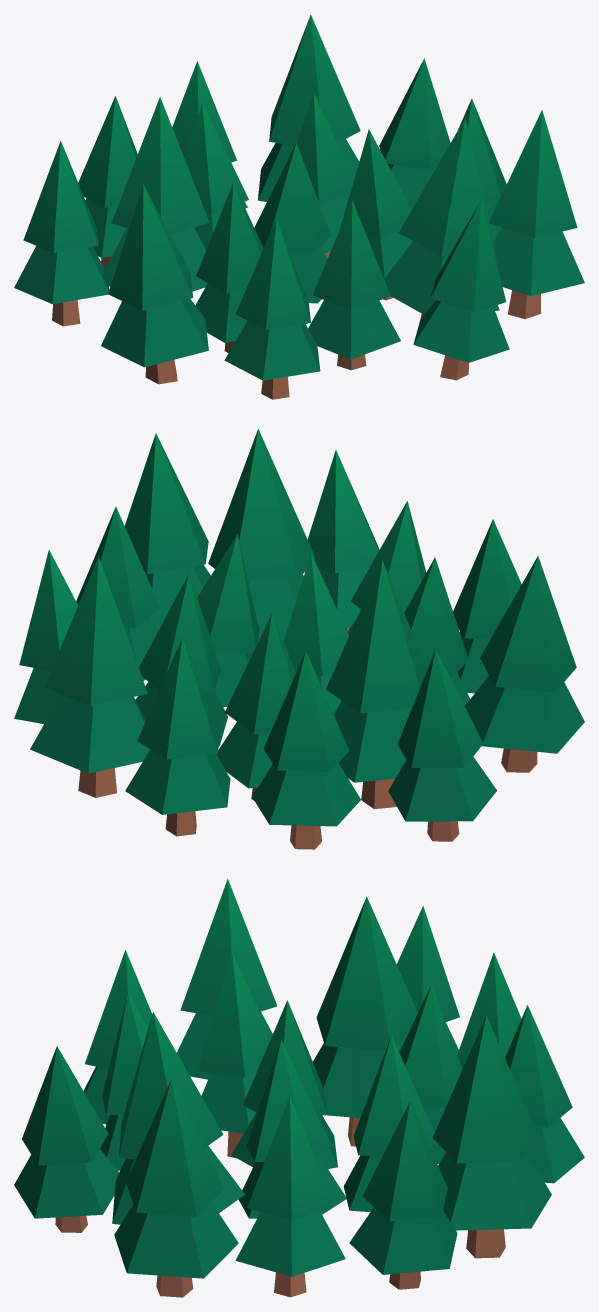
Rendered from trees-cluster.glb.
The picture shows the model from 3 angles, top to bottom: view 1: azimuth 30°, elevation 25°; view 2: azimuth 150°, elevation 25°; view 3: azimuth 270°, elevation 25°; orthographic projection. The views are drawn at different scales.
Visible parts, largest first — view 1: trees_A_large; view 2: trees_A_large; view 3: trees_A_large.
Boxes of the visible parts, box(x1,y1,x2,y2) form: trees_A_large: box(14, 14, 584, 399); trees_A_large: box(14, 429, 584, 849); trees_A_large: box(14, 878, 584, 1297).
Size of the model in its own units: 1.95 by 0.9264 by 1.97.
1 material, 1 textured.
